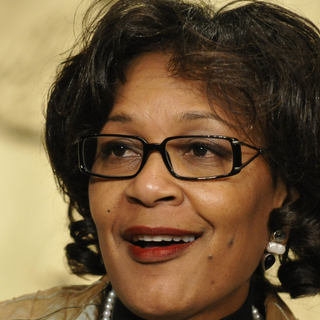eye: (173, 138, 228, 167), (97, 139, 141, 164)
